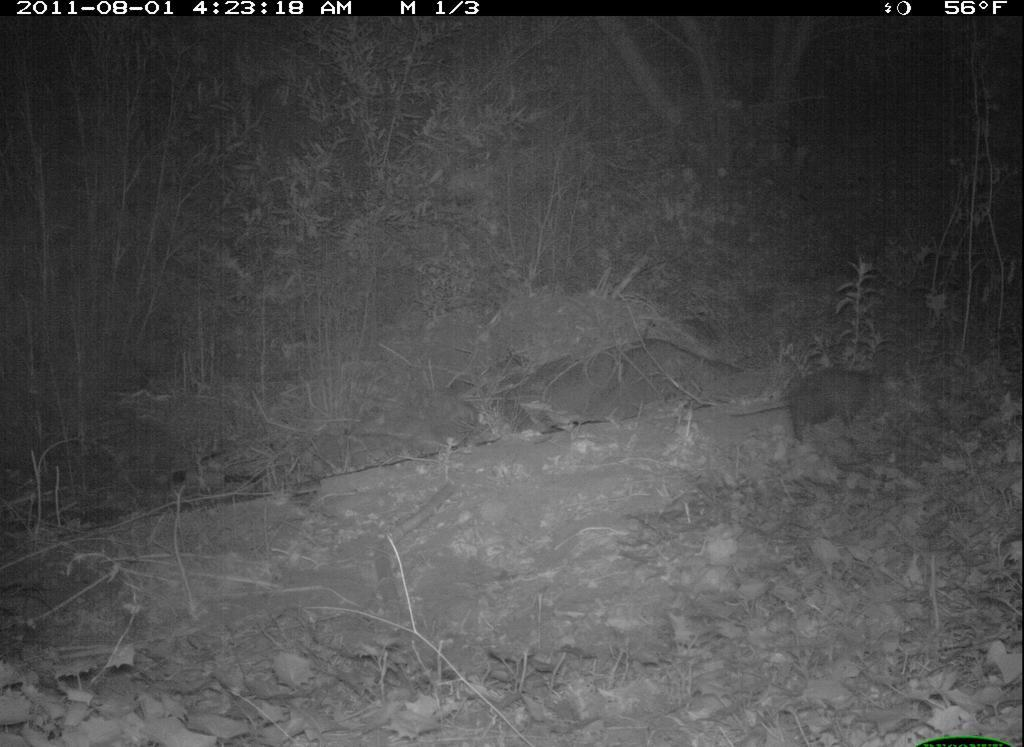opossum: (728, 361, 911, 449)
